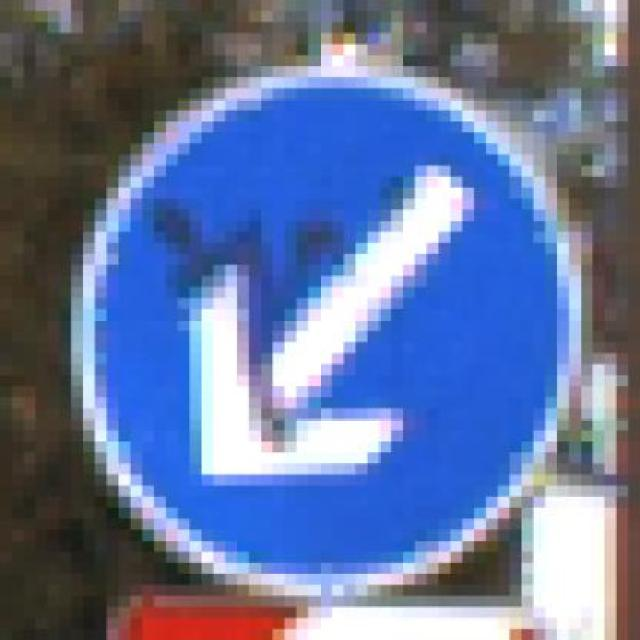Keep-Left: (36, 66, 604, 619)
